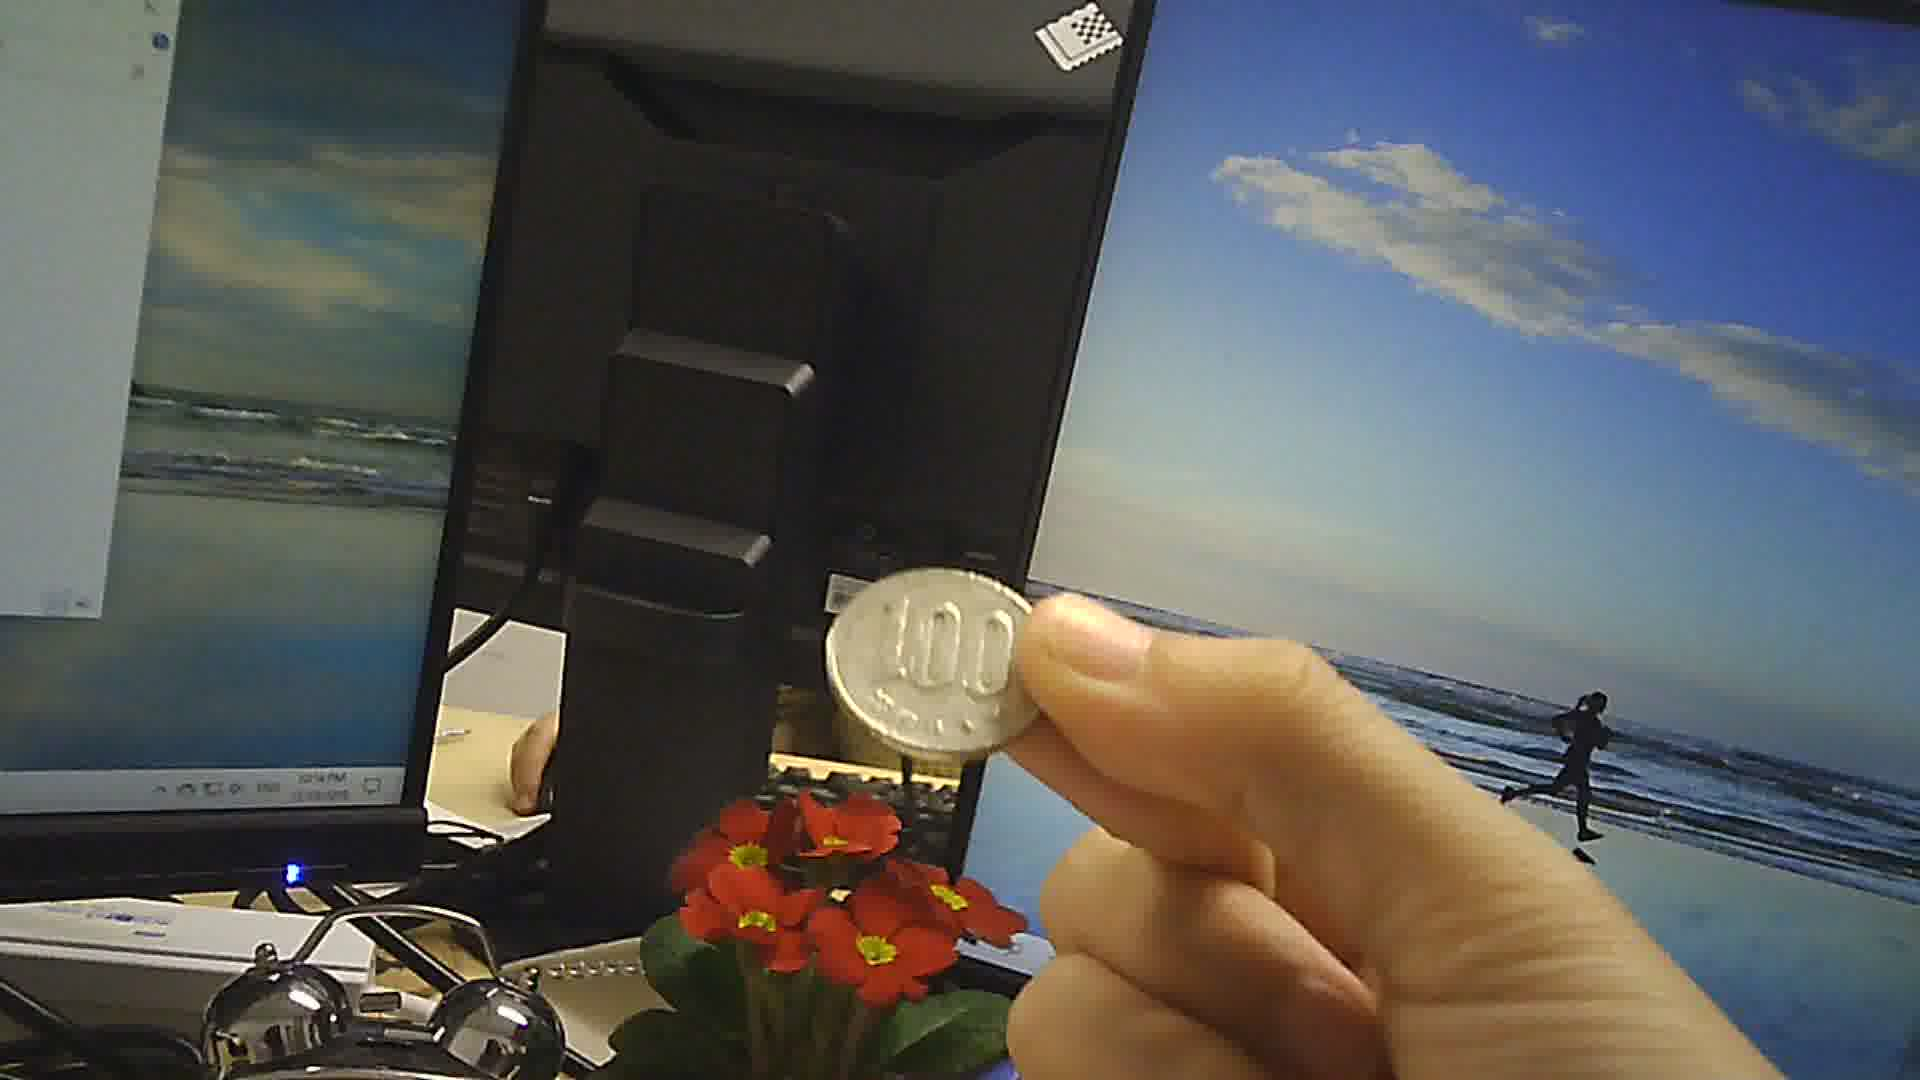100 Yen: (822, 559, 1048, 757)
